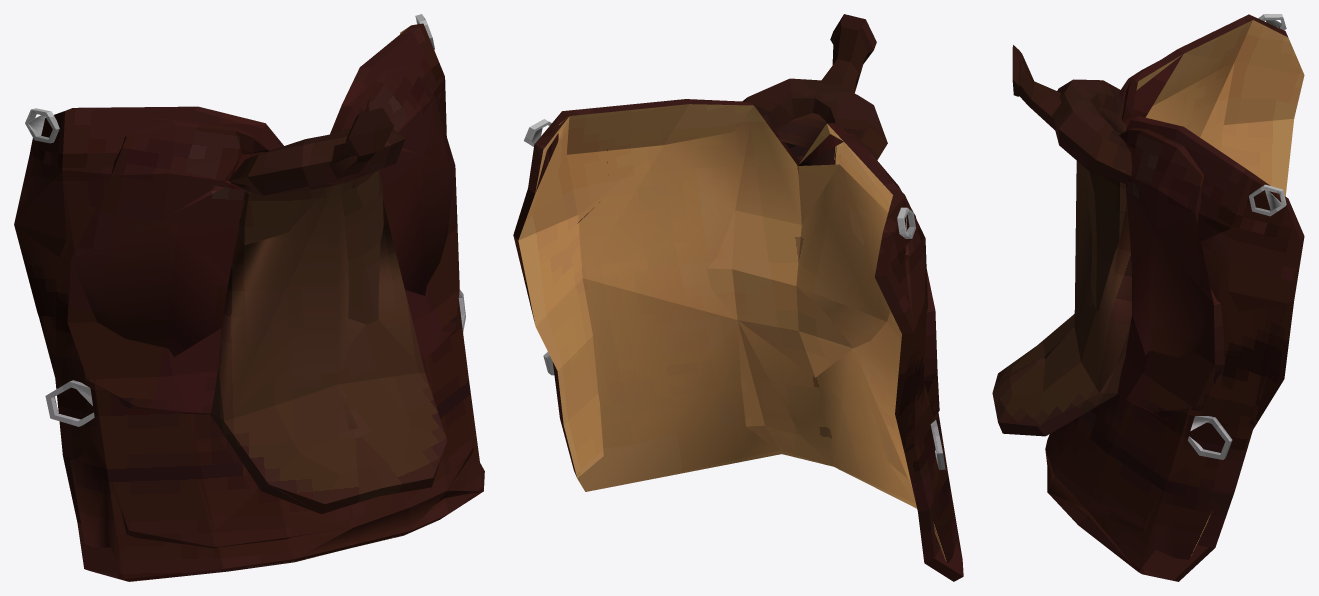
The model's file is item_saddle.glb.
The picture shows the model from 3 angles, left to right: view 1: azimuth 30°, elevation 25°; view 2: azimuth 150°, elevation 25°; view 3: azimuth 270°, elevation 25°; orthographic projection. The views are drawn at different scales.
Parts seen in each view (by area): view 1: Saddle; view 2: Saddle; view 3: Saddle.
Part boxes in pixels (x1,y1,x2,y2): Saddle: (14,14,484,581); Saddle: (513,14,963,581); Saddle: (992,14,1304,581).
Bounding box in the file's own units: 0.399 × 0.4376 × 0.2771.
1 material, 1 textured.
